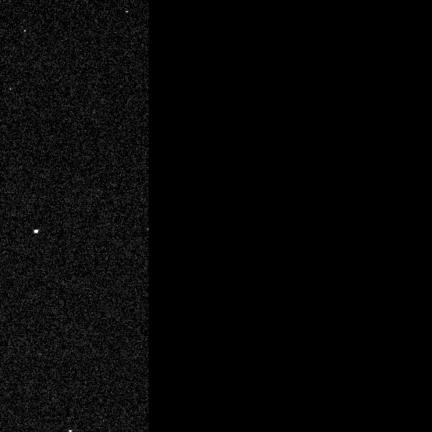blob: (34, 230, 38, 233)
